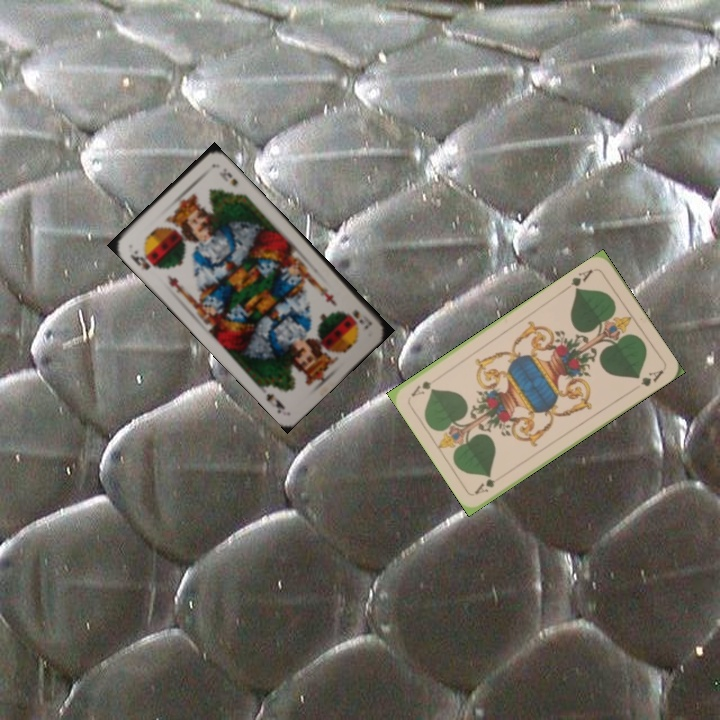GA: (471, 470, 508, 497), (566, 265, 596, 294)
SK: (126, 246, 161, 273), (348, 305, 375, 332)
